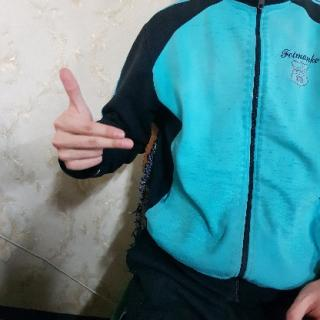GHAYN: (50, 64, 136, 177)
